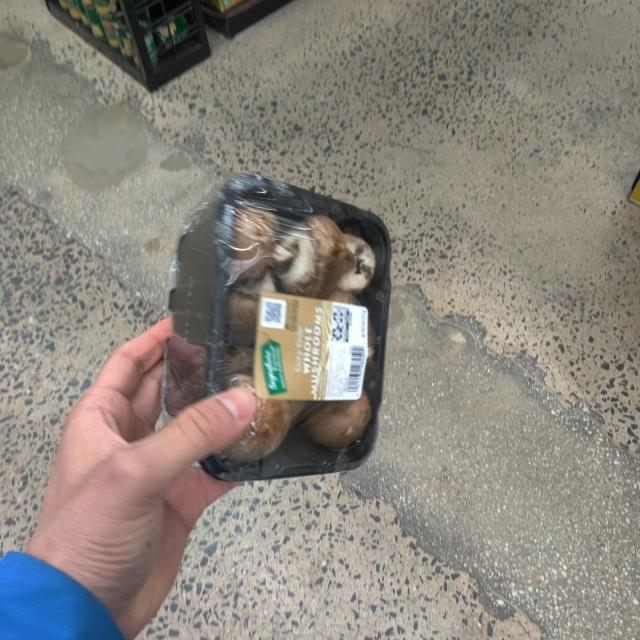Mushrooms: (174, 184, 394, 476)
